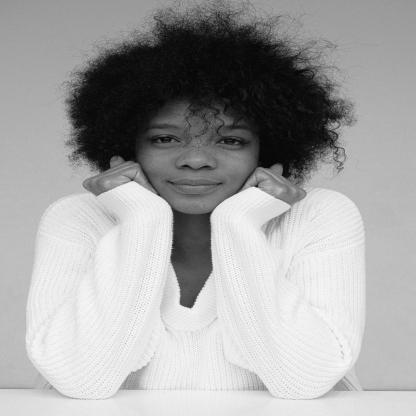Eye: (147, 134, 183, 148), (215, 136, 249, 150)
Mouth: (169, 178, 223, 194)
Nose: (176, 140, 217, 170)
